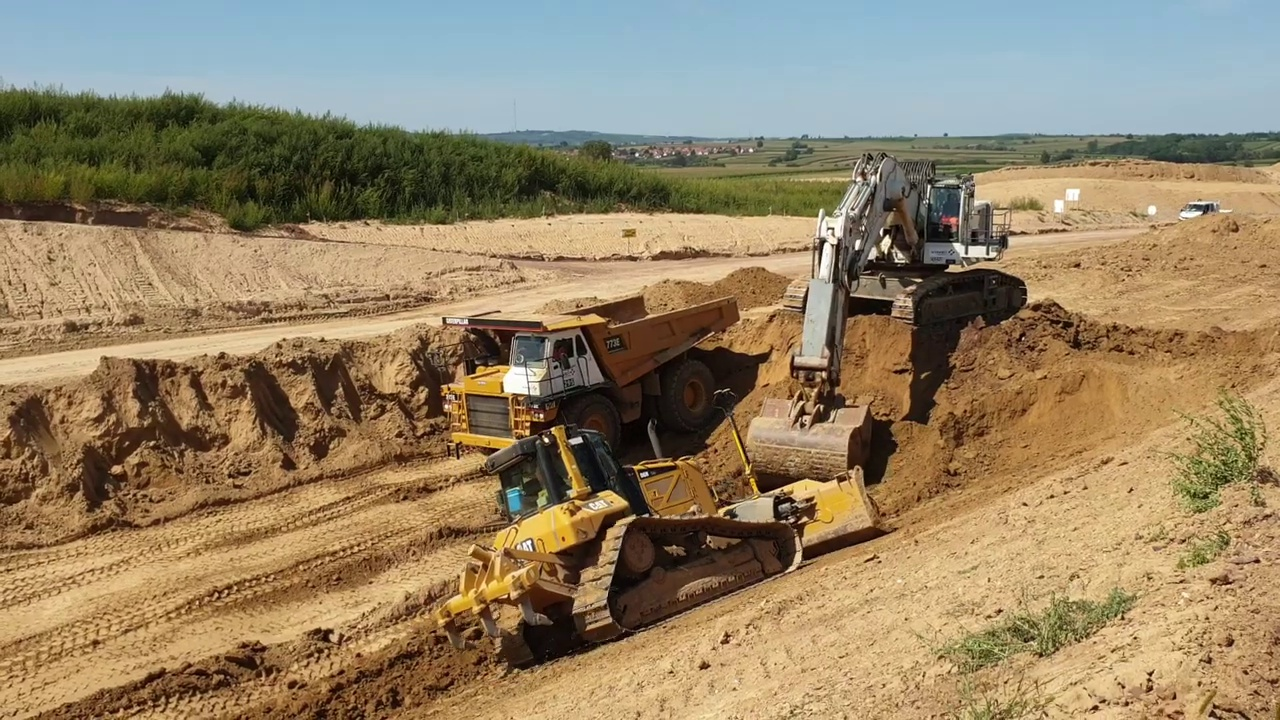bulldozer: (430, 386, 898, 674)
excavator: (745, 144, 1030, 492)
truck: (435, 289, 742, 482), (1176, 195, 1240, 237)
